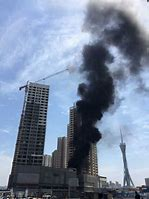smoke: (66, 1, 149, 166)
